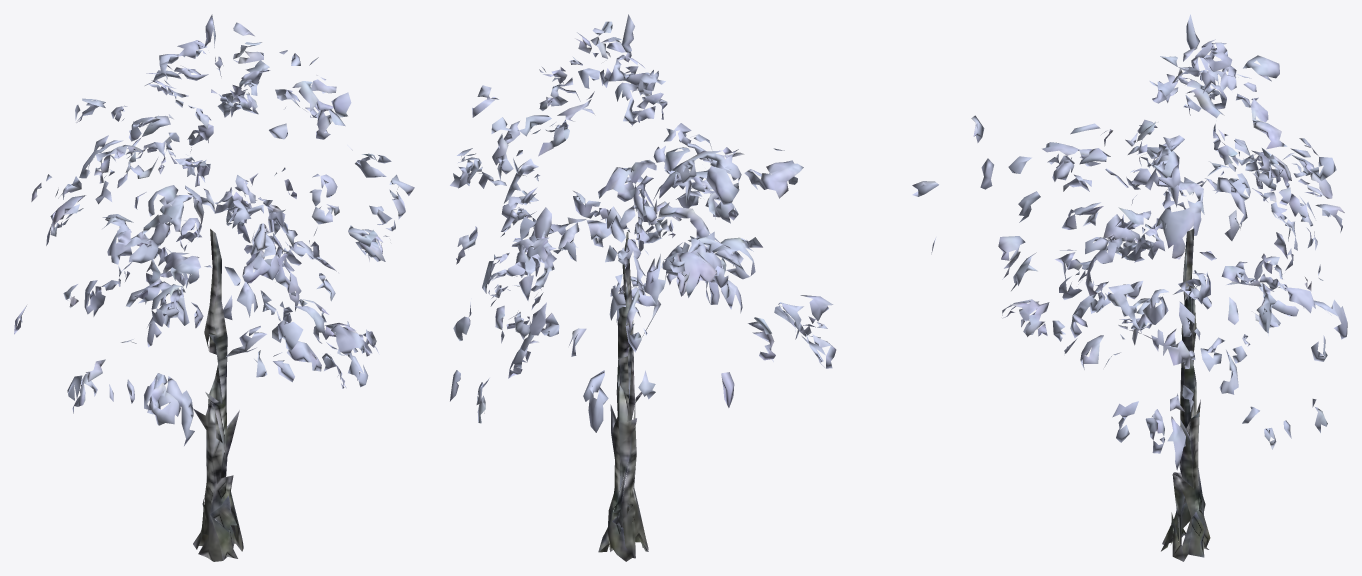
Rendered from betula_gelida_jovem.glb.
3 renders of one model, left to right at view 1: azimuth 30°, elevation 25°; view 2: azimuth 150°, elevation 25°; view 3: azimuth 270°, elevation 25°, orthographic.
Visible parts, largest first — view 1: geometry_0.003; view 2: geometry_0.003; view 3: geometry_0.003.
Part boxes in pixels (<box>): geometry_0.003: <box>14,14,414,561</box>; geometry_0.003: <box>450,14,938,561</box>; geometry_0.003: <box>971,14,1347,561</box>.
Size of the model in its own units: 0.7297 by 0.9575 by 0.6117.
Materials: 1 (1 with a texture image).
